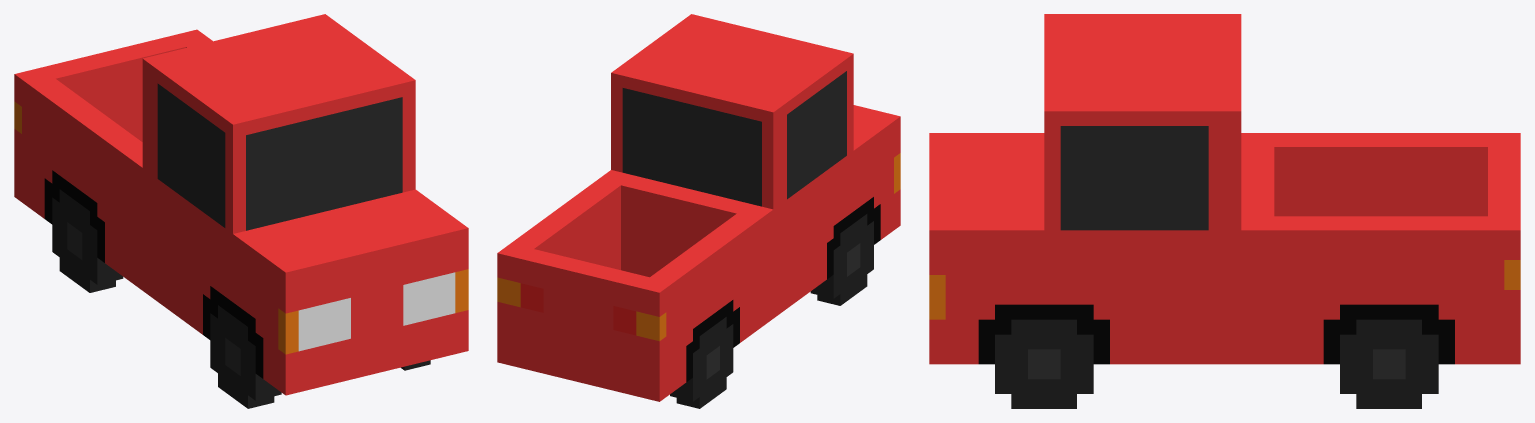
Rendered from kit-voxel-truck-red.glb.
3 views of the same model, side by side, from view 1: azimuth 30°, elevation 25°; view 2: azimuth 150°, elevation 25°; view 3: azimuth 270°, elevation 25° (orthographic). The views are drawn at different scales.
Parts seen in each view (by area): view 1: geometry_1; view 2: geometry_1; view 3: geometry_1.
Part boxes in pixels (left/top/right/bottom): geometry_1: left=14, top=14, right=468, bottom=408; geometry_1: left=497, top=14, right=900, bottom=408; geometry_1: left=929, top=14, right=1520, bottom=408.
Size of the model in its own units: 1.4 by 2 by 3.6.
1 material, 1 textured.
